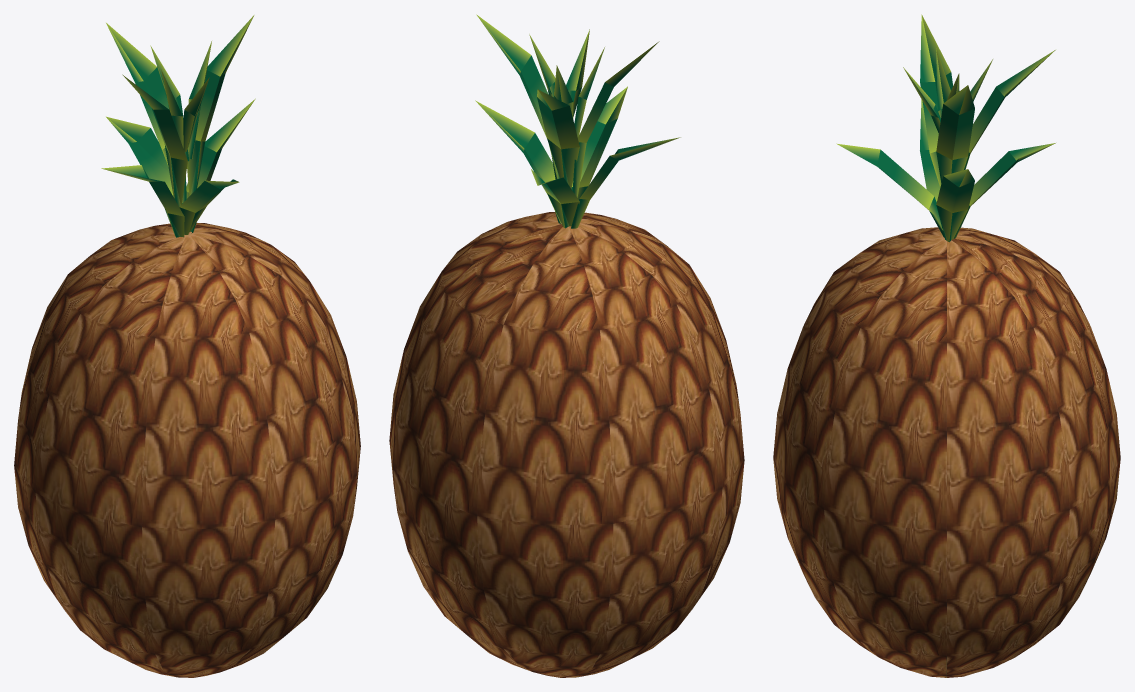
The model's file is pineapple.FBX.
The picture shows the model from 3 angles, left to right: view 1: azimuth 30°, elevation 25°; view 2: azimuth 150°, elevation 25°; view 3: azimuth 270°, elevation 25°; orthographic projection. The views are drawn at different scales.
Visible parts, largest first — view 1: Pine apple; view 2: Pine apple; view 3: Pine apple.
Boxes of the visible parts, x1,y1,x2,y2 form: Pine apple: (14,15,360,677); Pine apple: (389,14,744,677); Pine apple: (773,14,1120,677).
Bounding box in the file's own units: 12.15 × 24.13 × 12.15.
